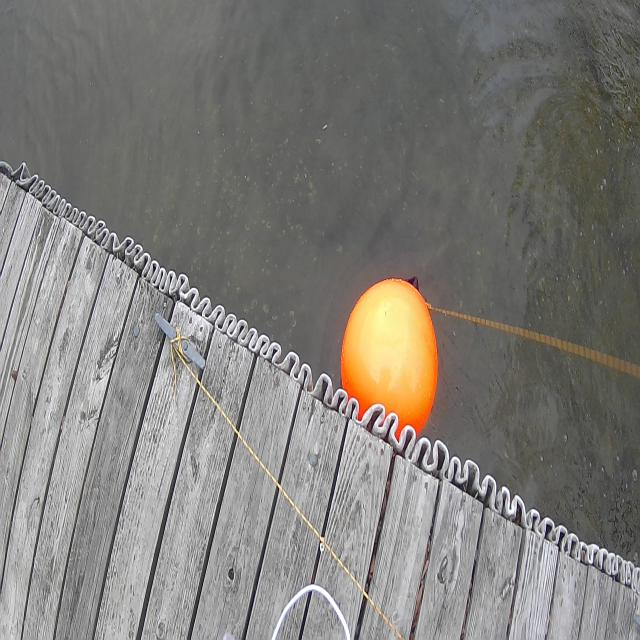Buoy: (339, 277, 439, 443)
